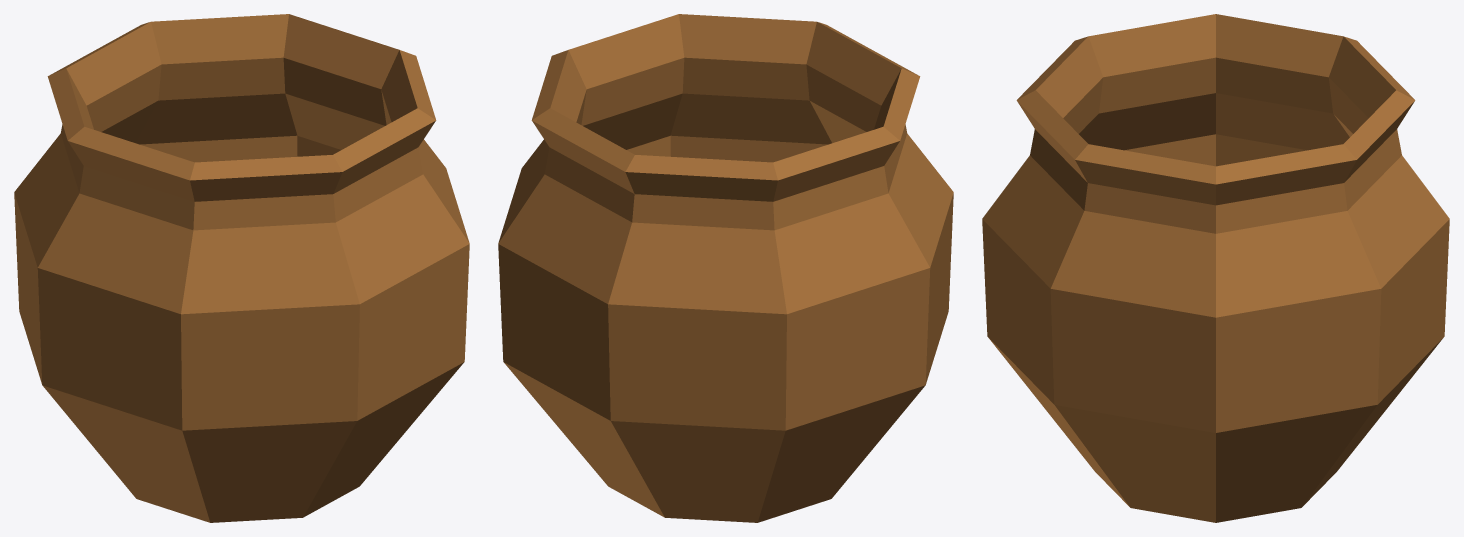
File: Pot_9.fbx
The picture shows the model from 3 angles, left to right: view 1: azimuth 30°, elevation 25°; view 2: azimuth 150°, elevation 25°; view 3: azimuth 270°, elevation 25°; orthographic projection.
Visible parts, largest first — view 1: Pot_9; view 2: Pot_9; view 3: Pot_9.
Part boxes in pixels (box(x1,y1,x2,y2)): Pot_9: box(14, 14, 469, 522); Pot_9: box(498, 14, 953, 522); Pot_9: box(982, 14, 1449, 522).
Bounding box in the file's own units: 41.88 × 37.72 × 41.88.
